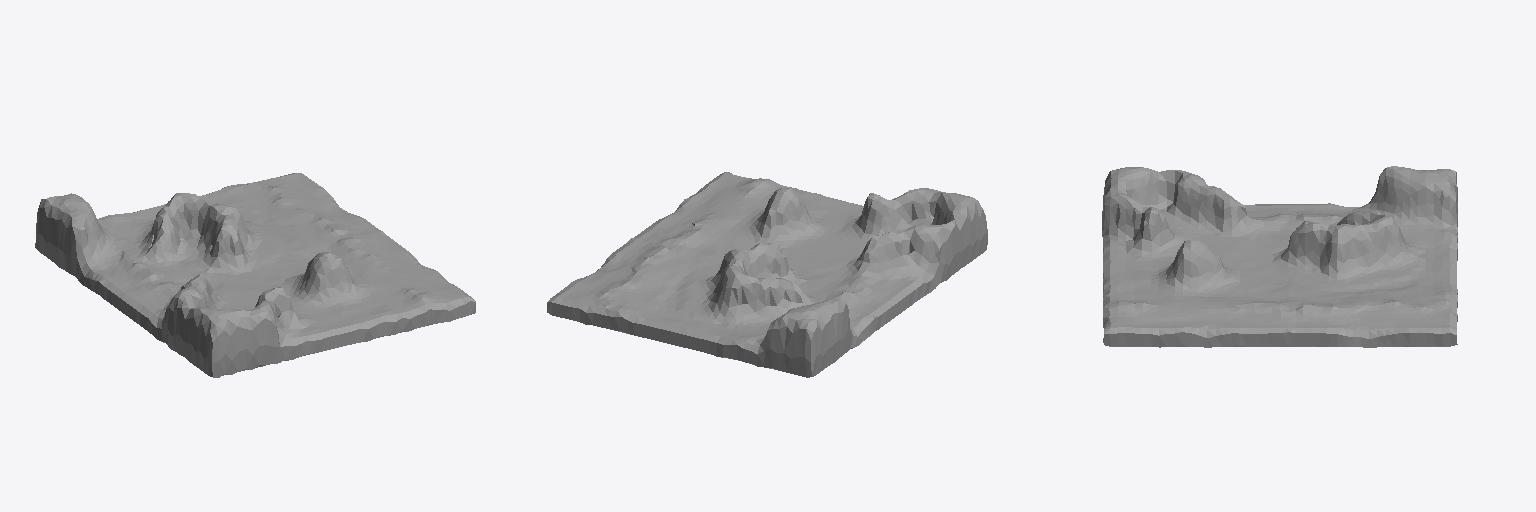
File: mapa3.obj
3 renders of one model, left to right at view 1: azimuth 30°, elevation 25°; view 2: azimuth 150°, elevation 25°; view 3: azimuth 270°, elevation 25°, orthographic.
Parts seen in each view (by area): view 1: Cube; view 2: Cube; view 3: Cube.
Boxes of the visible parts, x1=… form: Cube: x1=35, y1=173, x2=475, y2=377; Cube: x1=547, y1=172, x2=987, y2=377; Cube: x1=1102, y1=166, x2=1457, y2=347.
Size of the model in its own units: 157 by 32.61 by 182.